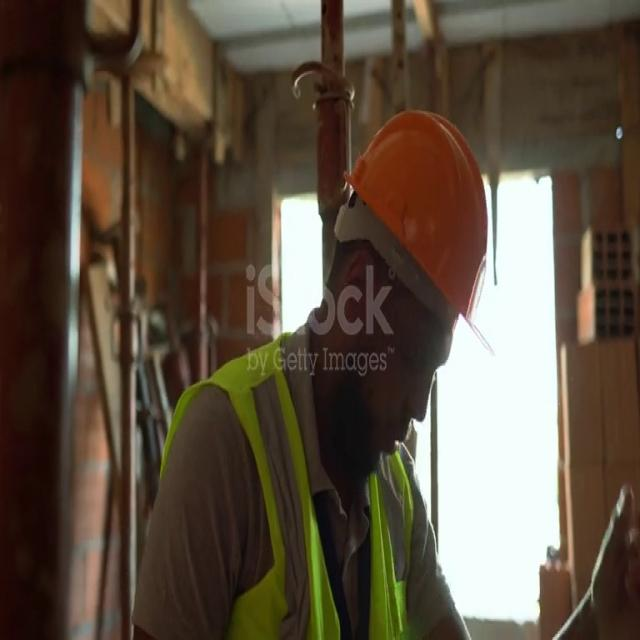capacete: (315, 67, 504, 359)
